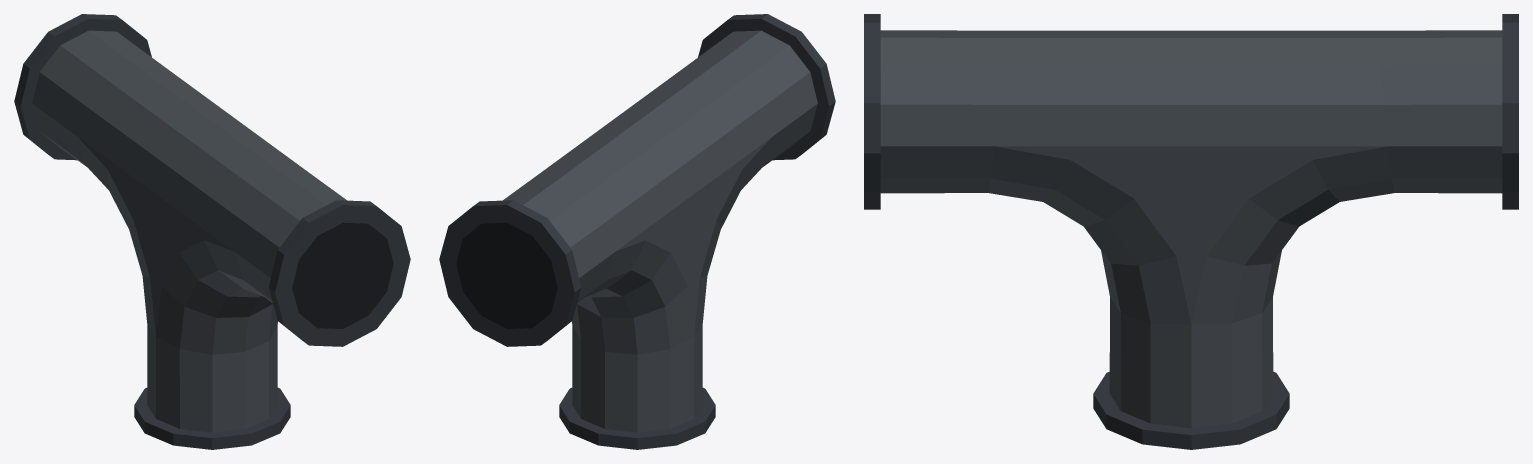
File: Pipe_0.25x0.5_Junction_T.fbx
3 views of the same model, side by side, from view 1: azimuth 30°, elevation 25°; view 2: azimuth 150°, elevation 25°; view 3: azimuth 270°, elevation 25° (orthographic). The views are drawn at different scales.
Visible parts, largest first — view 1: Pipe_0.25x0.5_Junction_T; view 2: Pipe_0.25x0.5_Junction_T; view 3: Pipe_0.25x0.5_Junction_T.
Boxes of the visible parts, x1=… form: Pipe_0.25x0.5_Junction_T: x1=14, y1=14, x2=410, y2=449; Pipe_0.25x0.5_Junction_T: x1=439, y1=14, x2=835, y2=449; Pipe_0.25x0.5_Junction_T: x1=864, y1=14, x2=1518, y2=449.
Bounding box in the file's own units: 30 × 65 × 100.
